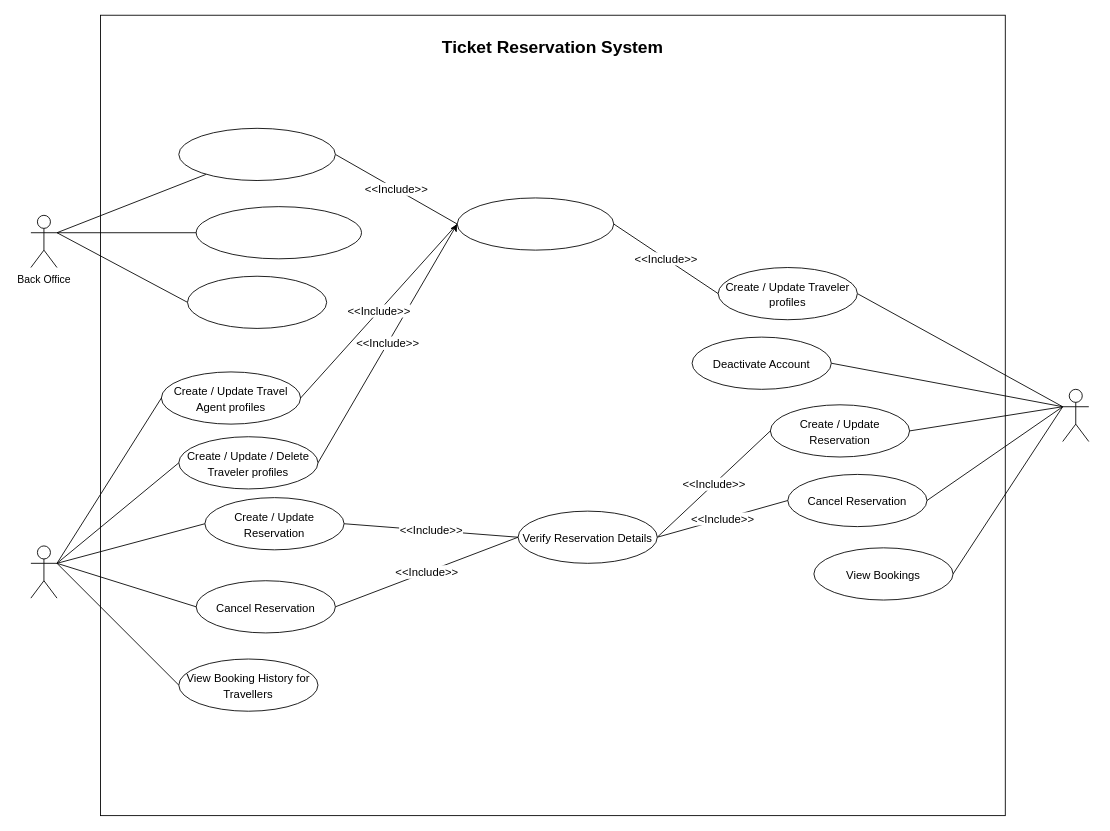
This 1110x831 diagram has some shape labels left out. The shapes that lost their labels are listed below. From the top down, each one's centre as x and y in pixels, then its label:
the point at 256,154: Create / Update backoffice users
the point at 278,232: Create / Update Train Information and Schedules
the point at 535,223: Validate Data
the point at 257,301: Activate / Deactivate Traveler Accounts
the point at 1075,415: Traveler
the point at 43,571: Travel Agent
